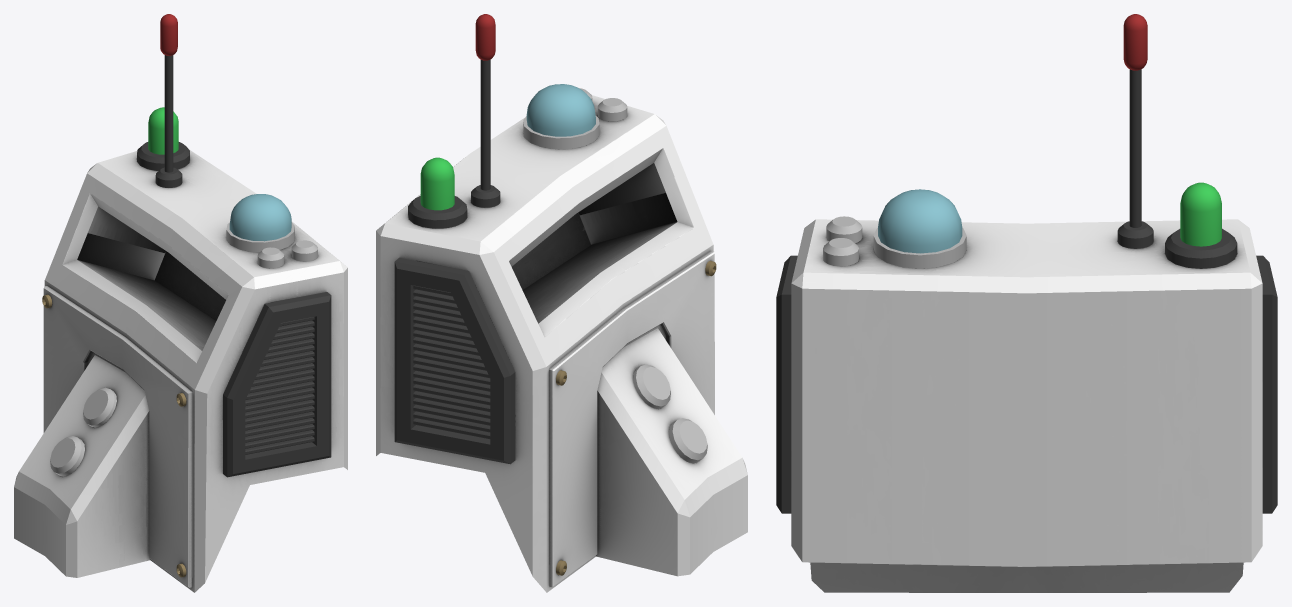
Rendered from HighPoly_fire shooter.fbx.
The picture shows the model from 3 angles, left to right: view 1: azimuth 30°, elevation 25°; view 2: azimuth 150°, elevation 25°; view 3: azimuth 270°, elevation 25°; orthographic projection. The views are drawn at different scales.
Parts seen in each view (by area): view 1: Light_8, Cube_3_0_Light_8, Cylinder_Cylinder_4, Boole_Capsule, Capsule_Cylinder, Cylinder_4, Cylinder, Cylinder_3, Cylinder_4_2; view 2: Light_8, Cube_3_0_Light_8, Cylinder_Cylinder_4, Capsule_Cylinder, Boole_Capsule, Cylinder_4, Cylinder, Cylinder_3; view 3: Light_8, Cube_3_0_Light_8, Cylinder_Cylinder_4, Capsule_Cylinder, Boole_Capsule, Cylinder_4_2, Cylinder_3.
Part boxes in pixels (bbox=[...]): Light_8: bbox=[14, 149, 347, 592]; Cube_3_0_Light_8: bbox=[223, 292, 331, 477]; Cylinder_Cylinder_4: bbox=[226, 194, 294, 252]; Boole_Capsule: bbox=[155, 14, 182, 187]; Capsule_Cylinder: bbox=[137, 107, 189, 170]; Cylinder_4: bbox=[50, 436, 84, 476]; Cylinder: bbox=[83, 387, 116, 427]; Cylinder_3: bbox=[257, 247, 284, 268]; Cylinder_4_2: bbox=[291, 240, 317, 261]; Light_8: bbox=[376, 95, 747, 592]; Cube_3_0_Light_8: bbox=[394, 257, 515, 464]; Cylinder_Cylinder_4: bbox=[523, 84, 599, 149]; Capsule_Cylinder: bbox=[408, 157, 467, 228]; Boole_Capsule: bbox=[471, 14, 500, 207]; Cylinder_4: bbox=[669, 418, 707, 463]; Cylinder: bbox=[633, 364, 670, 408]; Cylinder_3: bbox=[597, 98, 627, 121]; Light_8: bbox=[791, 219, 1262, 592]; Cube_3_0_Light_8: bbox=[776, 255, 1277, 513]; Cylinder_Cylinder_4: bbox=[873, 189, 966, 268]; Capsule_Cylinder: bbox=[1165, 182, 1237, 268]; Boole_Capsule: bbox=[1117, 14, 1153, 248]; Cylinder_4_2: bbox=[823, 238, 858, 266]; Cylinder_3: bbox=[826, 216, 862, 243].
Bounding box in the file's own units: 59.81 × 116 × 83.01.
Materials: 7 (1 with a texture image).
